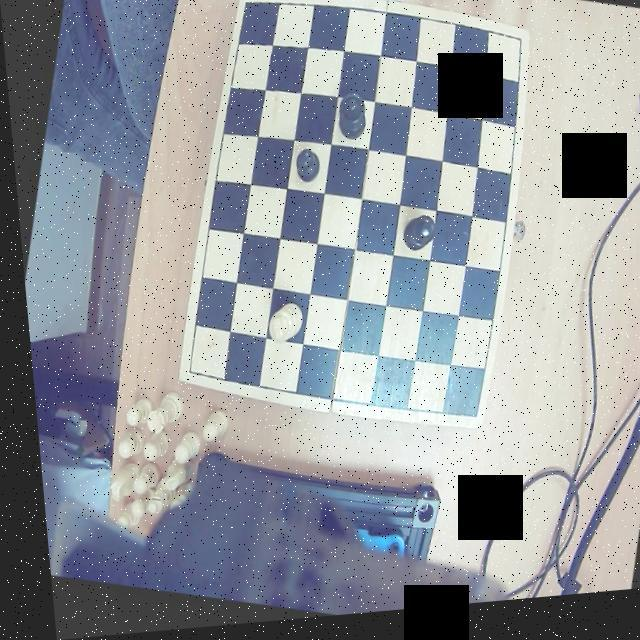chess-table-corners: (451, 405, 478, 436), (172, 361, 199, 389), (503, 34, 528, 62), (235, 0, 258, 26)
